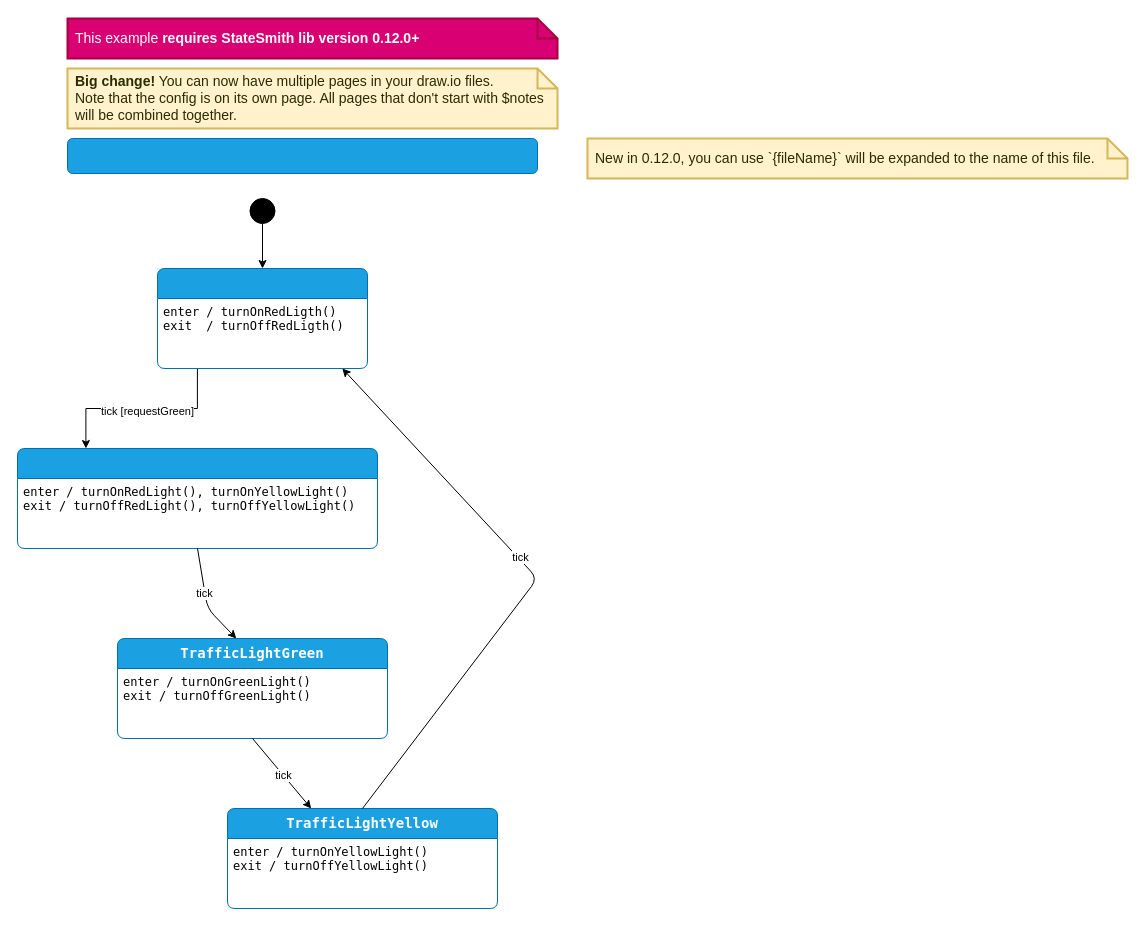
Some shapes in this 1146 by 926 pixel diagram are drawn without their labels. Each missing label, with the box of its shape:
$STATEMACHINE : TrafficLight: (66, 138, 538, 174)
TrafficLightStateRed: (156, 268, 368, 368)
TrafficLightStateRedYellow: (16, 448, 378, 548)
